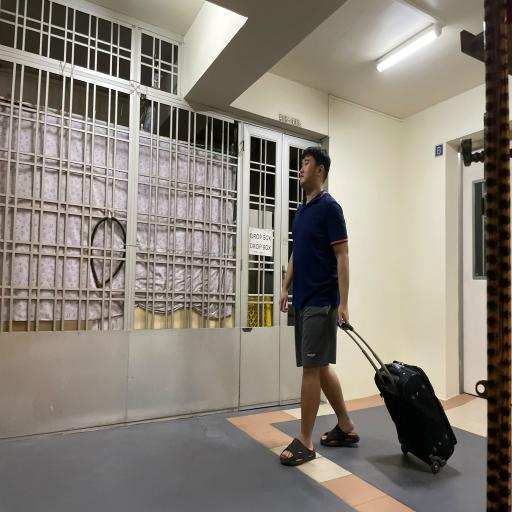person_left: (278, 142, 461, 491)
